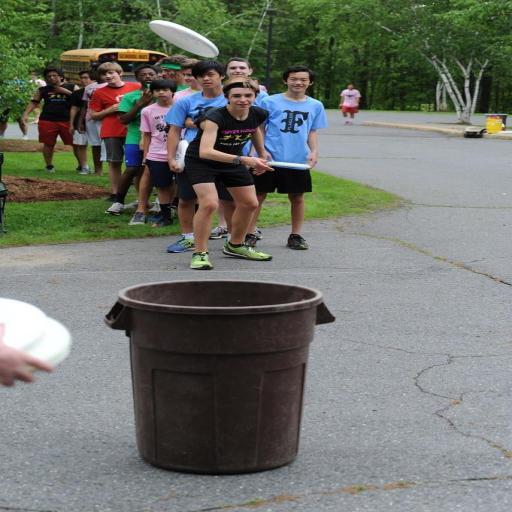trash-can: (98, 272, 338, 480)
